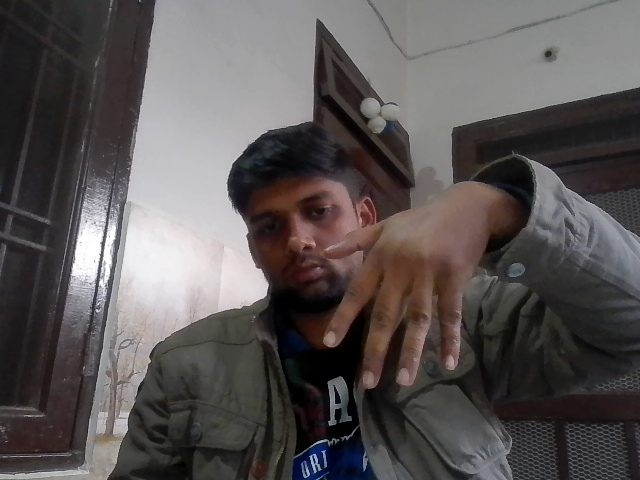HowAreYou: (317, 179, 496, 389)
